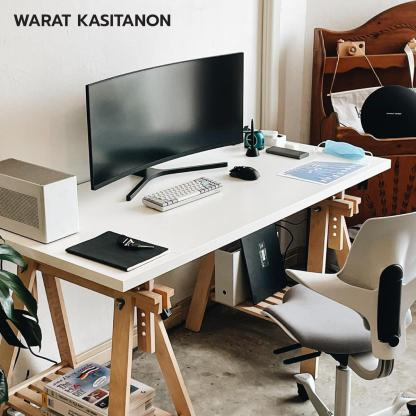table: (0, 112, 396, 415)
